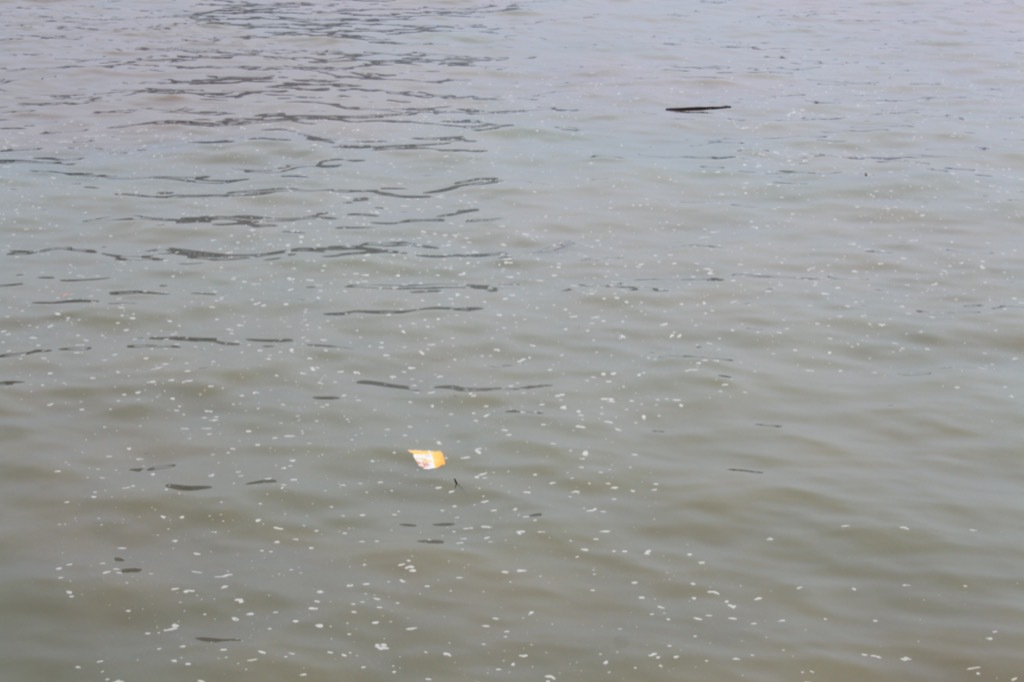organic: (652, 90, 742, 126), (968, 134, 999, 164), (855, 162, 877, 188)
plastic: (403, 444, 451, 475)
